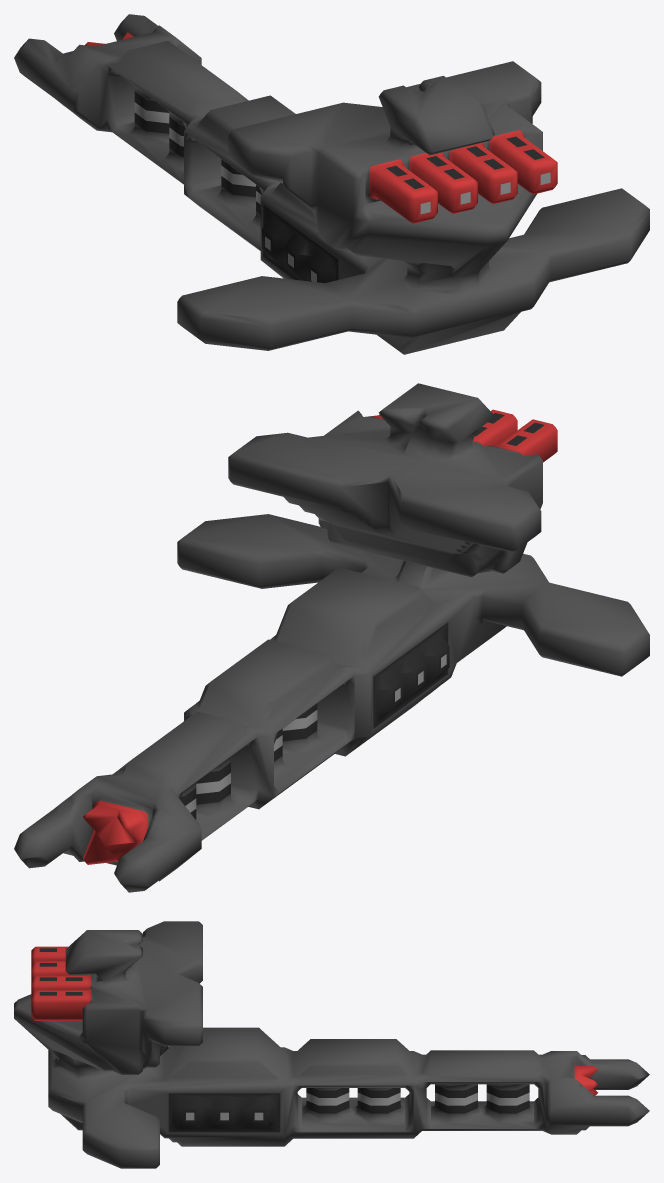
Rendered from fulkreykk-4-khorr-class.obj.
3 views of the same model, one above another, from view 1: azimuth 30°, elevation 25°; view 2: azimuth 150°, elevation 25°; view 3: azimuth 270°, elevation 25° (orthographic). The views are drawn at different scales.
Size of the model in its own units: 45 by 25 by 74.
Materials: 1 (1 with a texture image).
